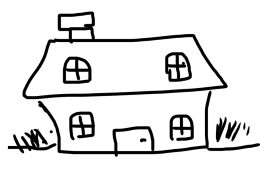chimney: (56, 3, 108, 51)
closed_window: (157, 48, 194, 87), (59, 53, 97, 86), (65, 109, 102, 142), (166, 109, 196, 144)
door: (110, 120, 159, 159)
roof: (13, 33, 234, 101)
wall: (32, 85, 215, 159)
